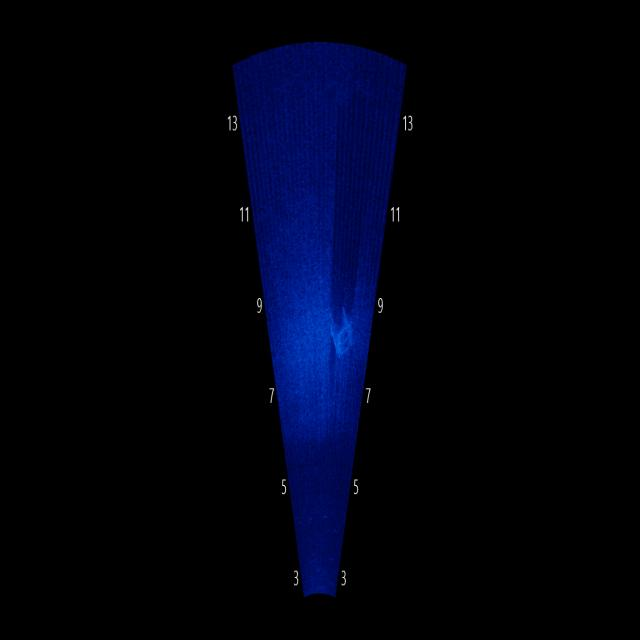square: (322, 297, 358, 366)
